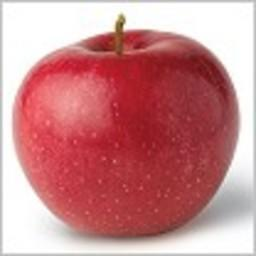apple: (12, 24, 240, 238)
